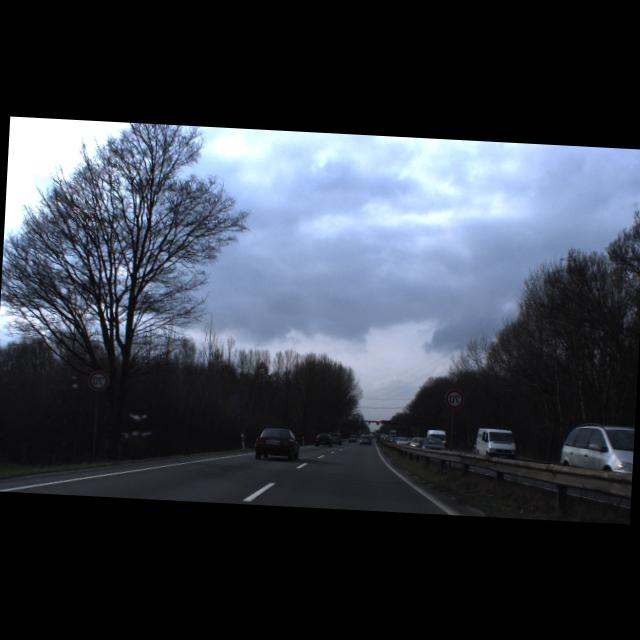prohibitory: (88, 370, 109, 391), (444, 388, 466, 408)
